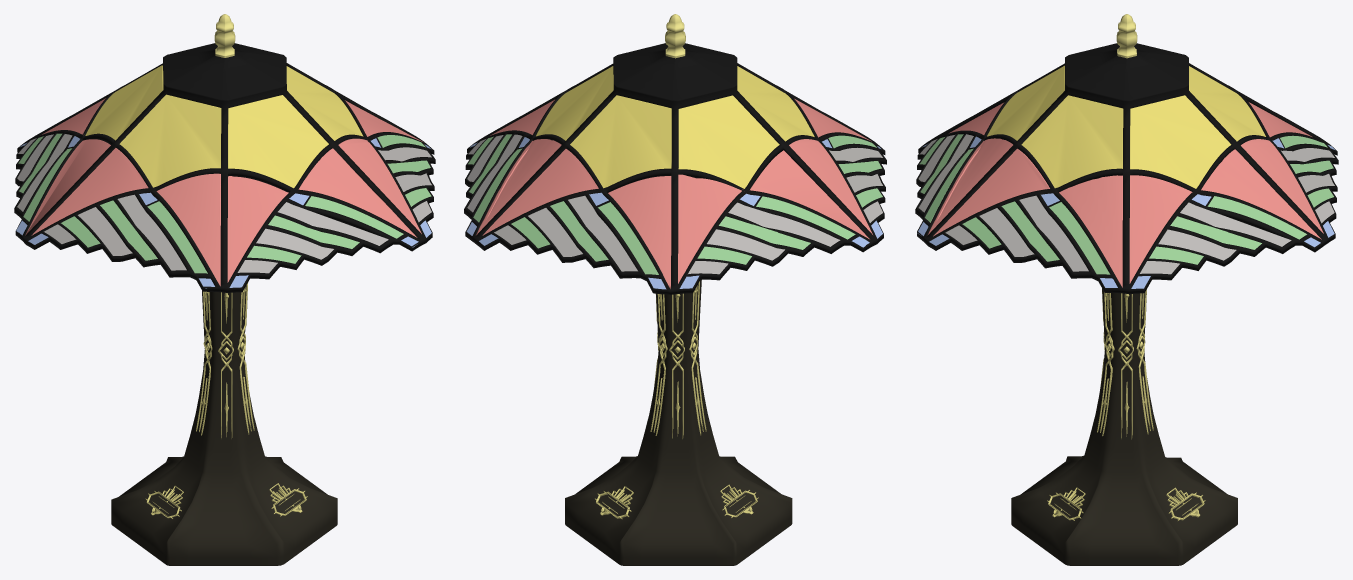
The model's file is Art Deco lamp 2.fbx.
3 views of the same model, side by side, from view 1: azimuth 30°, elevation 25°; view 2: azimuth 150°, elevation 25°; view 3: azimuth 270°, elevation 25° (orthographic).
Parts seen in each view (by area): view 1: Bass, Frame1, Frame1.010, Frame1.011, RedGlass2.001, Frame1.002, RedGlass2, Frame1.003, Frame1.009, Frame1.012, Frame1.001, RedGlass2.002 (+17 smaller); view 2: Bass, Frame1, Frame1.008, Frame1.009, RedGlass2.003, Frame1.004, RedGlass2.002, Frame1.005, Frame1.007, Frame1.010, RedGlass2.004, Frame1.003 (+18 smaller); view 3: Bass, Frame1, Frame1.012, Frame1.007, RedGlass2.005, Frame1.006, RedGlass2.004, Frame1.001, Frame1.011, Frame1.008, RedGlass2, Frame1.005 (+17 smaller).
Boxes of the visible parts, x1,y1,x2,y2 form: Bass: (111, 285, 337, 565); Frame1: (14, 14, 435, 292); Frame1.010: (119, 94, 221, 187); Frame1.011: (228, 95, 328, 188); RedGlass2.001: (156, 173, 220, 286); Frame1.002: (227, 176, 288, 282); RedGlass2: (298, 148, 417, 237); Frame1.003: (31, 148, 148, 235); Frame1.009: (85, 65, 163, 140); Frame1.012: (286, 66, 363, 140); Frame1.001: (338, 138, 421, 233); RedGlass2.002: (25, 139, 110, 235); Bass: (565, 279, 792, 565); Frame1: (464, 14, 886, 294); Frame1.008: (570, 95, 671, 188); Frame1.009: (678, 95, 779, 188); RedGlass2.003: (608, 176, 671, 288); Frame1.004: (678, 174, 743, 283); RedGlass2.002: (750, 150, 869, 239); Frame1.005: (482, 149, 598, 235); Frame1.007: (536, 66, 613, 140); Frame1.010: (737, 66, 814, 141); RedGlass2.004: (476, 139, 561, 235); Frame1.003: (789, 139, 872, 234); Bass: (1011, 288, 1237, 565); Frame1: (915, 14, 1338, 293); Frame1.012: (1021, 95, 1123, 188); Frame1.007: (1130, 95, 1231, 188); RedGlass2.005: (1059, 175, 1122, 287); Frame1.006: (1129, 175, 1192, 283); RedGlass2.004: (1201, 149, 1321, 239); Frame1.001: (933, 148, 1049, 236); Frame1.011: (987, 65, 1064, 140); Frame1.008: (1189, 66, 1265, 141); RedGlass2: (927, 138, 1012, 235); Frame1.005: (1241, 139, 1323, 233).
Size of the model in its own units: 285 by 345 by 260.
